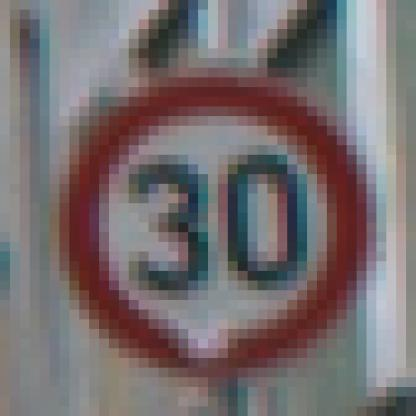Speed Limit 30: (74, 84, 359, 362)
